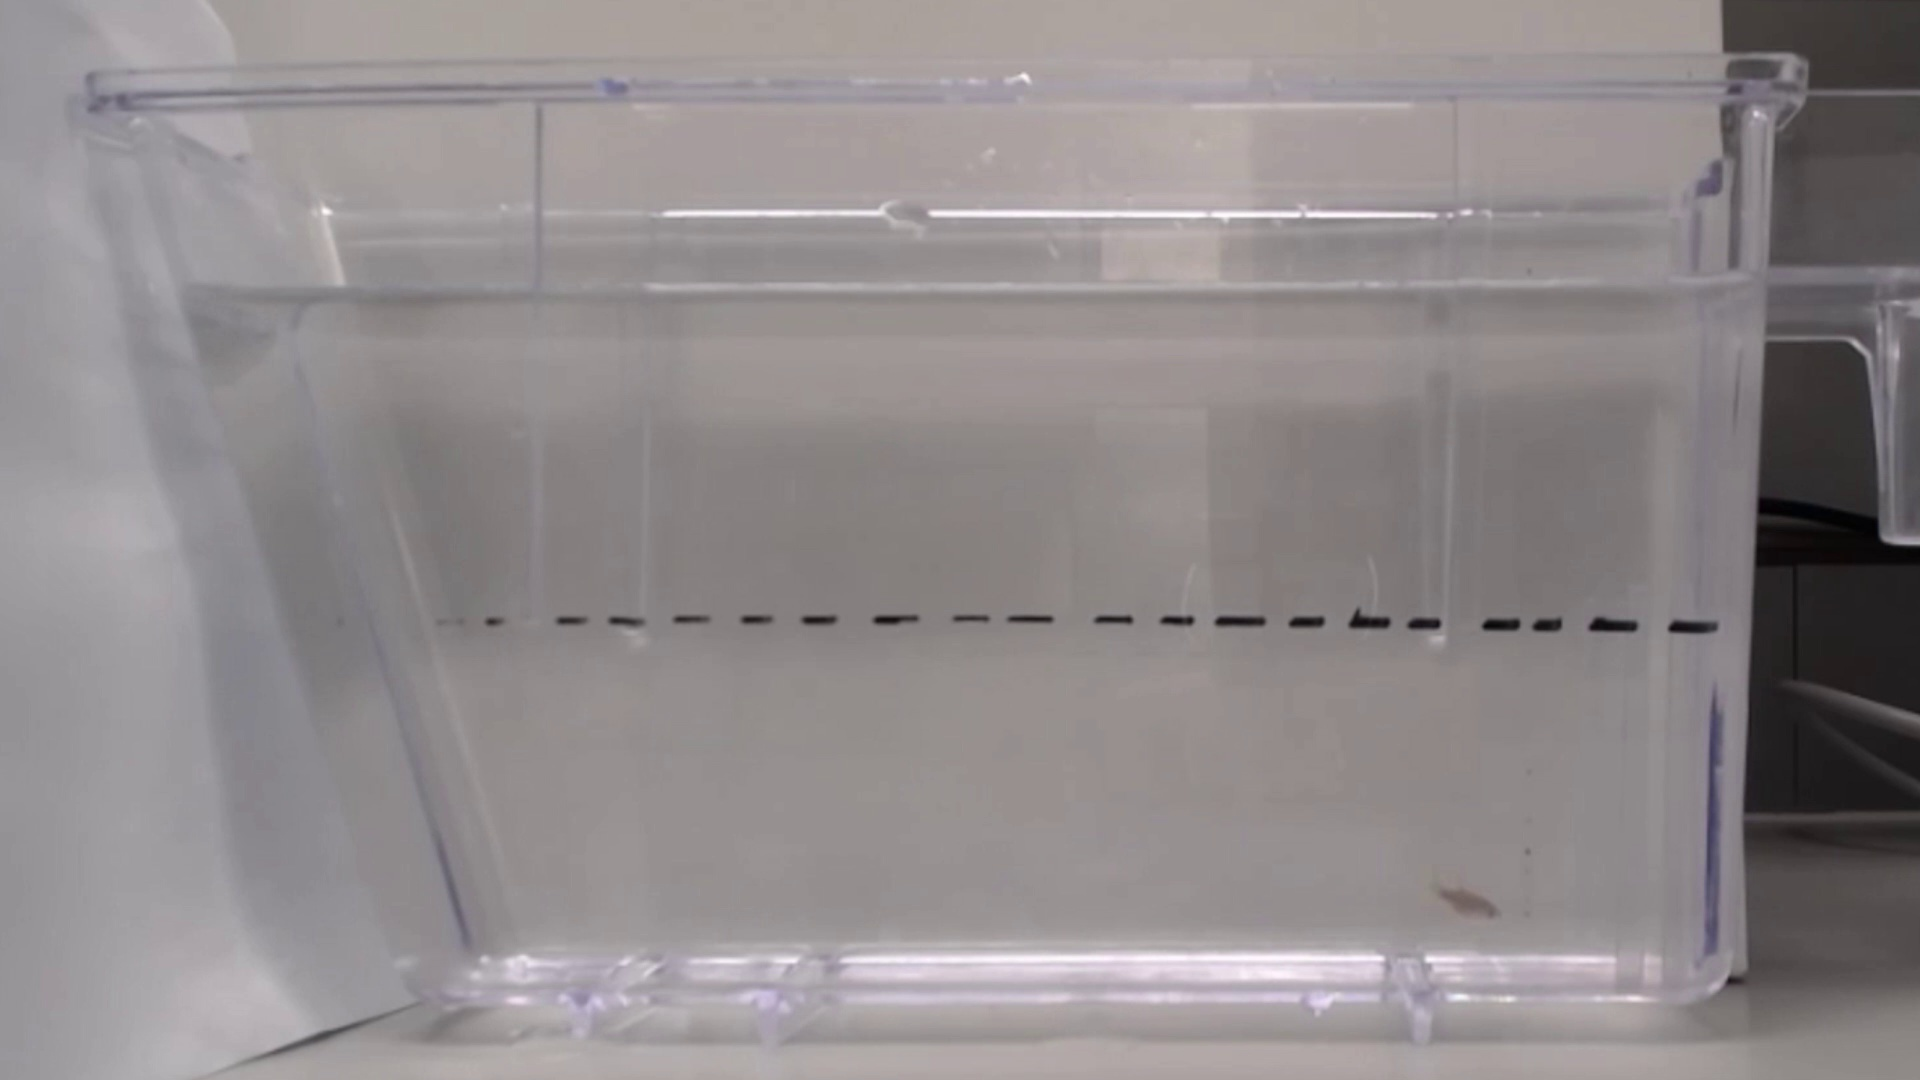blackline: (388, 607, 1730, 650)
zebrafish: (1422, 864, 1507, 928)
